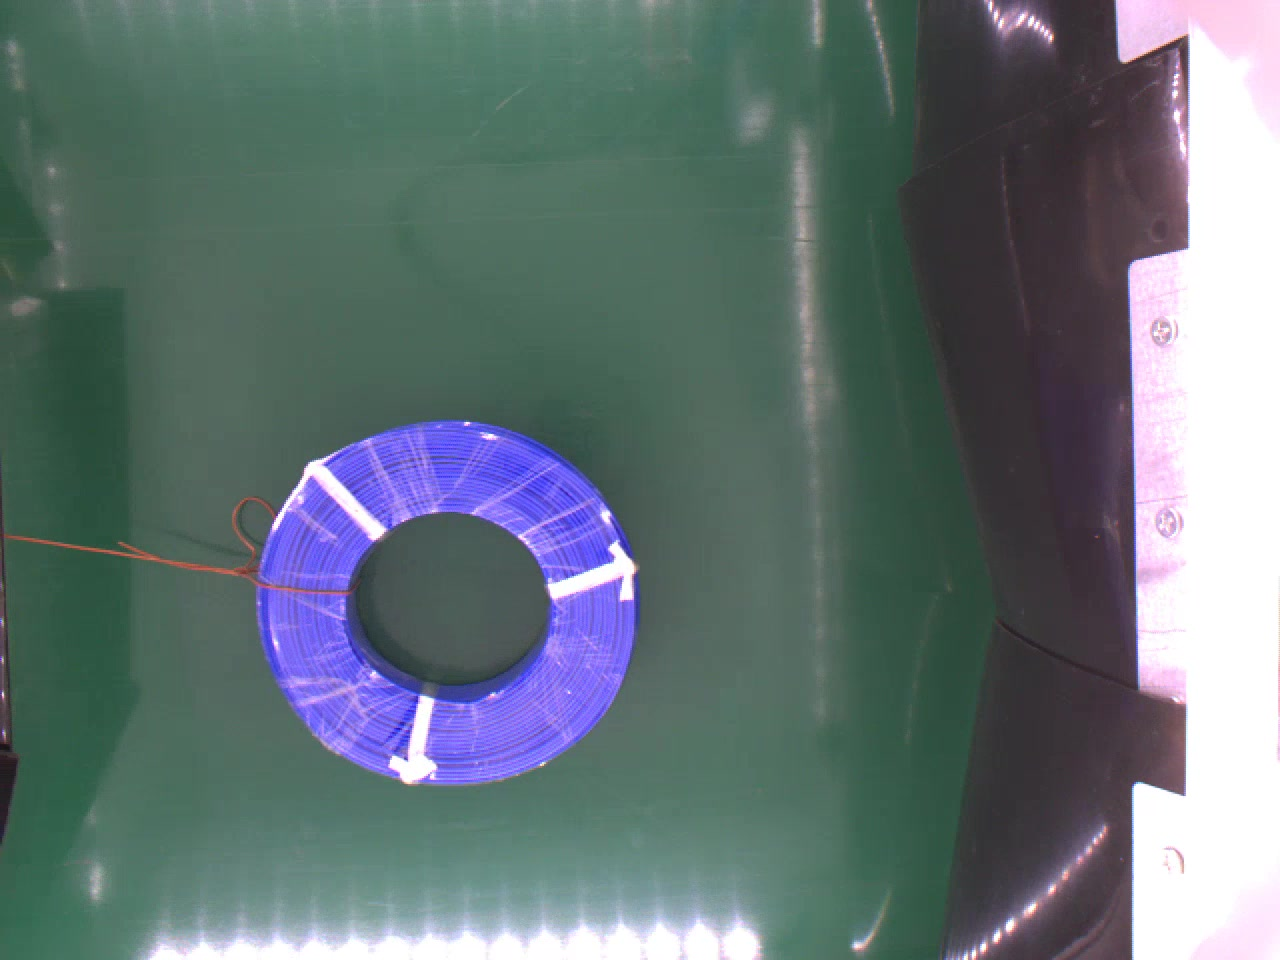blue: (247, 418, 640, 790)
